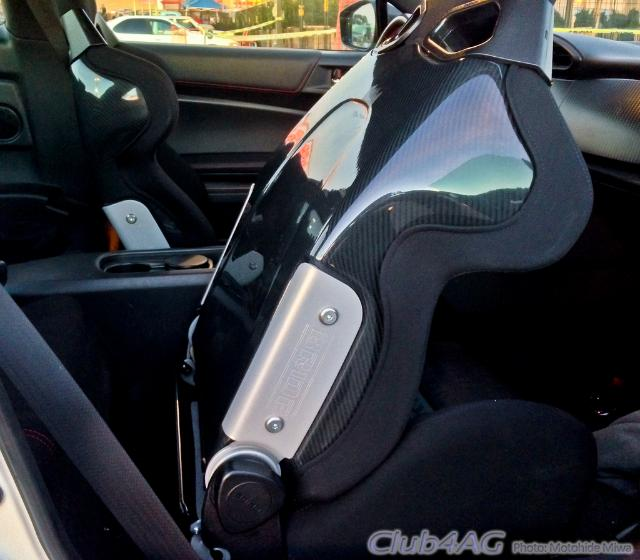Seatbelt: (1, 258, 206, 559)
